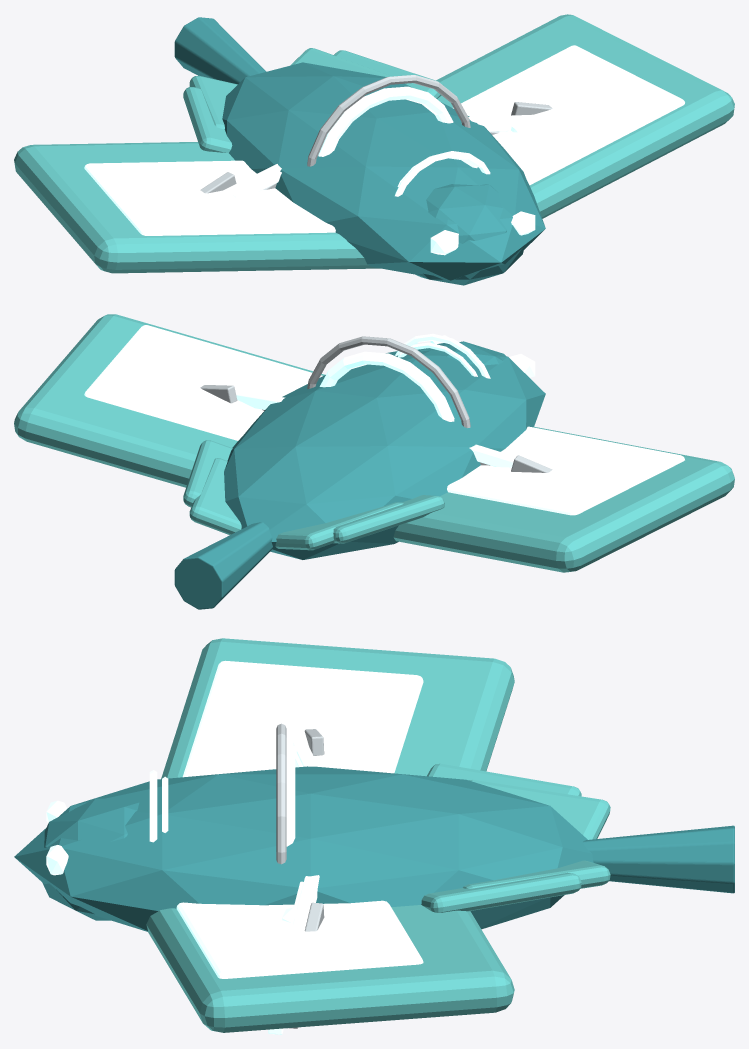
Rendered from sky_manta.glb.
3 views of the same model, one above another, from view 1: azimuth 30°, elevation 25°; view 2: azimuth 150°, elevation 25°; view 3: azimuth 270°, elevation 25° (orthographic). The views are drawn at different scales.
Parts seen in each view (by area): view 1: Body.002, WingL, WingR, WingMarkR, WingMarkL, Face, Tail, RiftRing, CoreTrim, FinL, TailFinL, TailFinR (+5 smaller); view 2: Body.002, WingL, WingR, WingMarkR, WingMarkL, Tail, RiftRing, FinL, TailFinR, CoreTrim, TailFinL, FinR (+4 smaller); view 3: Body.002, WingR, WingMarkL, WingL, WingMarkR, Tail, Face, FinR, TailFinL, FinL, CoreTrim, TailFinR (+2 smaller).
Part boxes in pixels (x1=…): Body.002: x1=222, y1=62, x2=545, y2=280; WingL: x1=14, y1=142, x2=380, y2=273; WingR: x1=436, y1=14, x2=734, y2=218; WingMarkR: x1=453, y1=45, x2=684, y2=185; WingMarkL: x1=84, y1=160, x2=335, y2=235; Face: x1=416, y1=184, x2=524, y2=285; Tail: x1=174, y1=17, x2=266, y2=84; RiftRing: x1=318, y1=86, x2=453, y2=156; CoreTrim: x1=307, y1=75, x2=470, y2=166; FinL: x1=183, y1=87, x2=232, y2=152; TailFinL: x1=189, y1=75, x2=237, y2=129; TailFinR: x1=290, y1=48, x2=392, y2=76; Body.002: x1=224, y1=343, x2=545, y2=559; WingL: x1=393, y1=426, x2=734, y2=572; WingR: x1=14, y1=314, x2=324, y2=487; WingMarkR: x1=84, y1=325, x2=322, y2=440; WingMarkL: x1=447, y1=426, x2=684, y2=515; Tail: x1=174, y1=522, x2=272, y2=609; RiftRing: x1=319, y1=351, x2=454, y2=421; FinL: x1=333, y1=495, x2=444, y2=543; TailFinR: x1=189, y1=458, x2=241, y2=534; CoreTrim: x1=307, y1=336, x2=470, y2=428; TailFinL: x1=275, y1=502, x2=403, y2=550; FinR: x1=183, y1=440, x2=232, y2=507; Body.002: x1=14, y1=766, x2=593, y2=931; WingR: x1=146, y1=905, x2=514, y2=1032; WingMarkL: x1=182, y1=660, x2=423, y2=777; WingL: x1=161, y1=638, x2=514, y2=778; WingMarkR: x1=176, y1=900, x2=423, y2=978; Tail: x1=582, y1=825, x2=734, y2=893; Face: x1=42, y1=798, x2=139, y2=920; FinR: x1=421, y1=872, x2=581, y2=912; TailFinL: x1=469, y1=780, x2=610, y2=839; FinL: x1=427, y1=763, x2=581, y2=796; CoreTrim: x1=276, y1=723, x2=286, y2=864; TailFinR: x1=463, y1=860, x2=610, y2=888.
Bounding box in the file's own units: 3.01 × 0.796 × 2.48.
